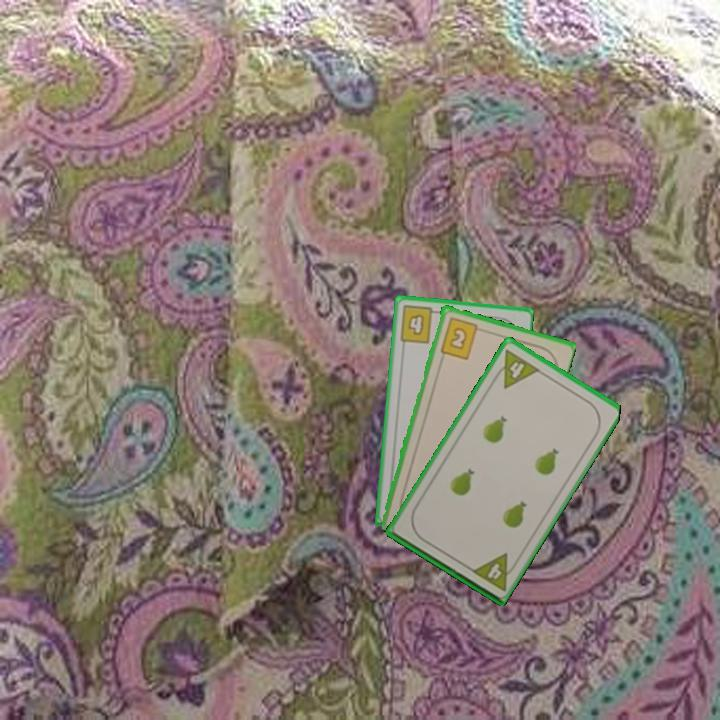2b: (436, 313, 486, 362)
4b: (396, 302, 442, 346)
4p: (489, 346, 542, 391), (467, 550, 521, 594)
